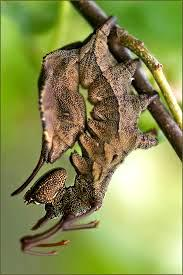Caterpillar: (9, 16, 167, 256)
